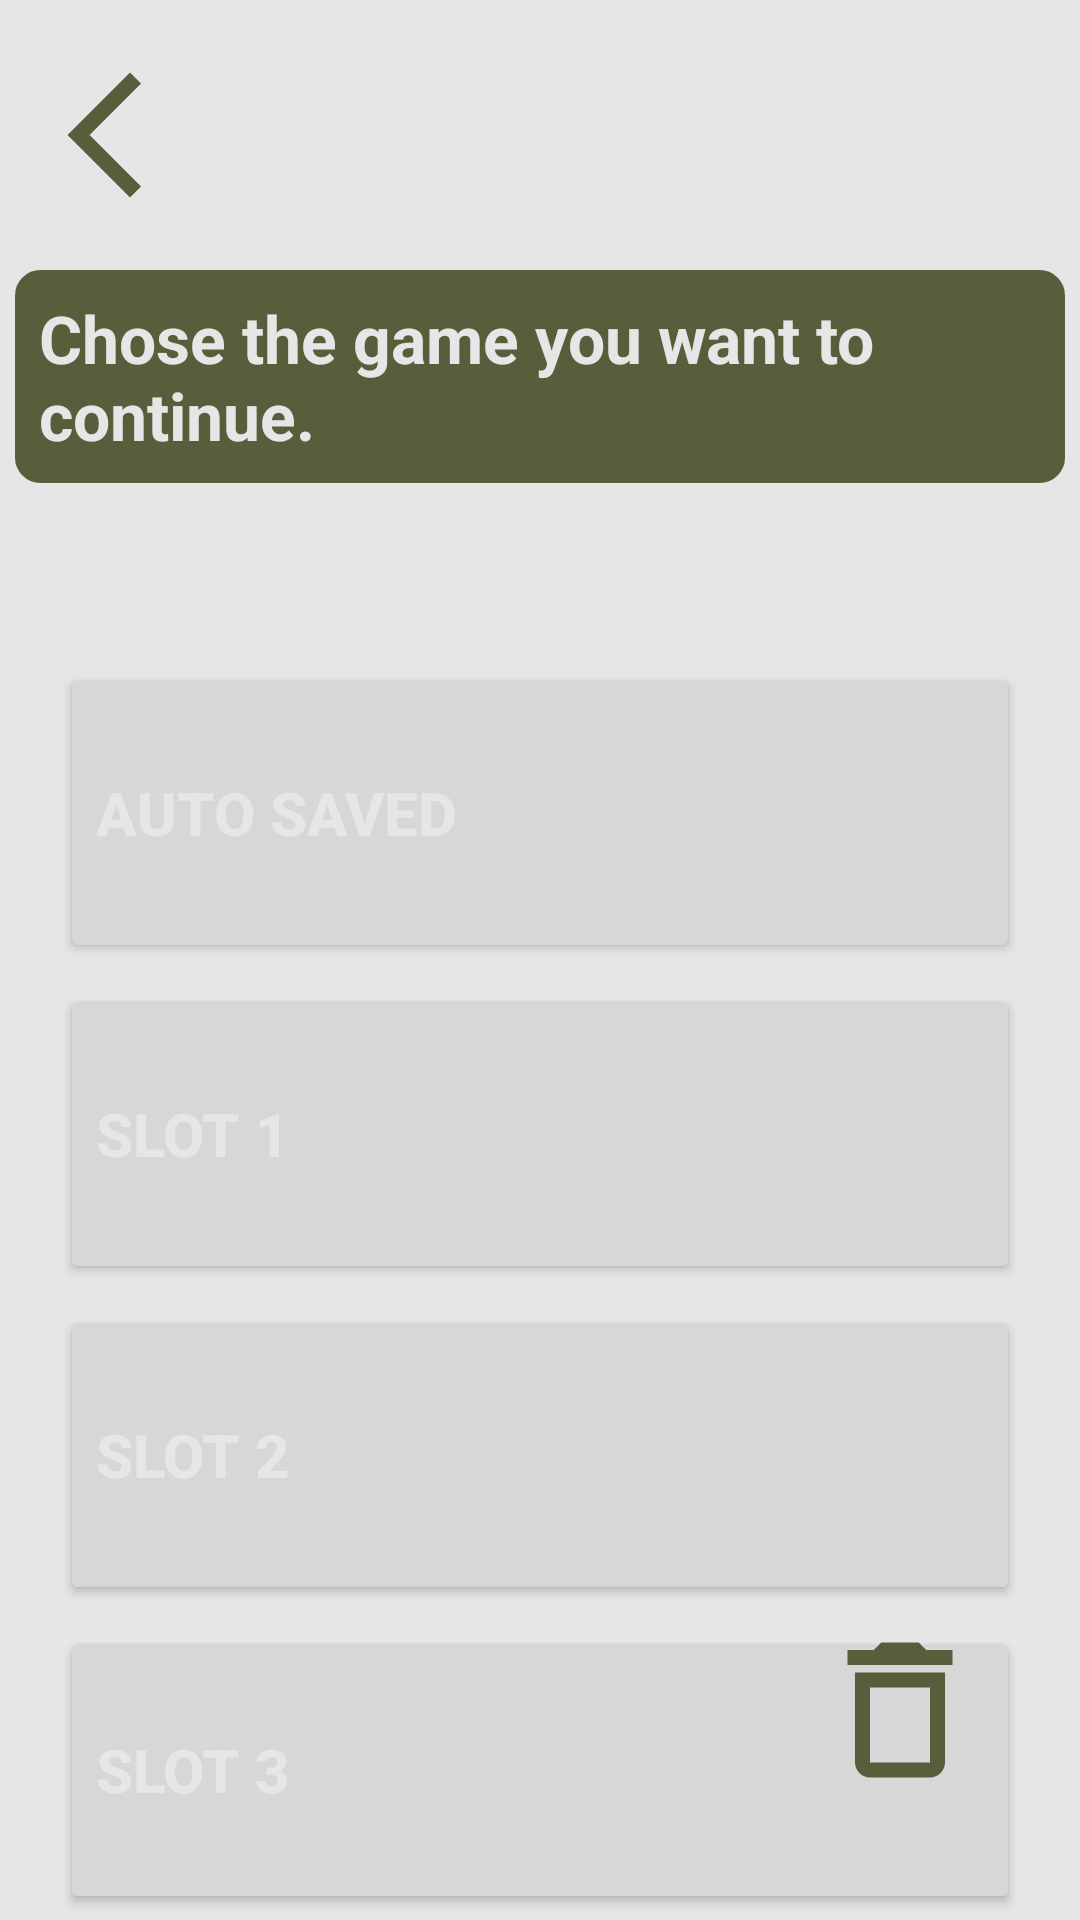

Named icons in this screenshot (1080*1920) and their bounding boxes, (x1, y1, x2, y2):
Delete all saves: (847, 1642, 953, 1778)
Go back: (68, 73, 141, 197)
